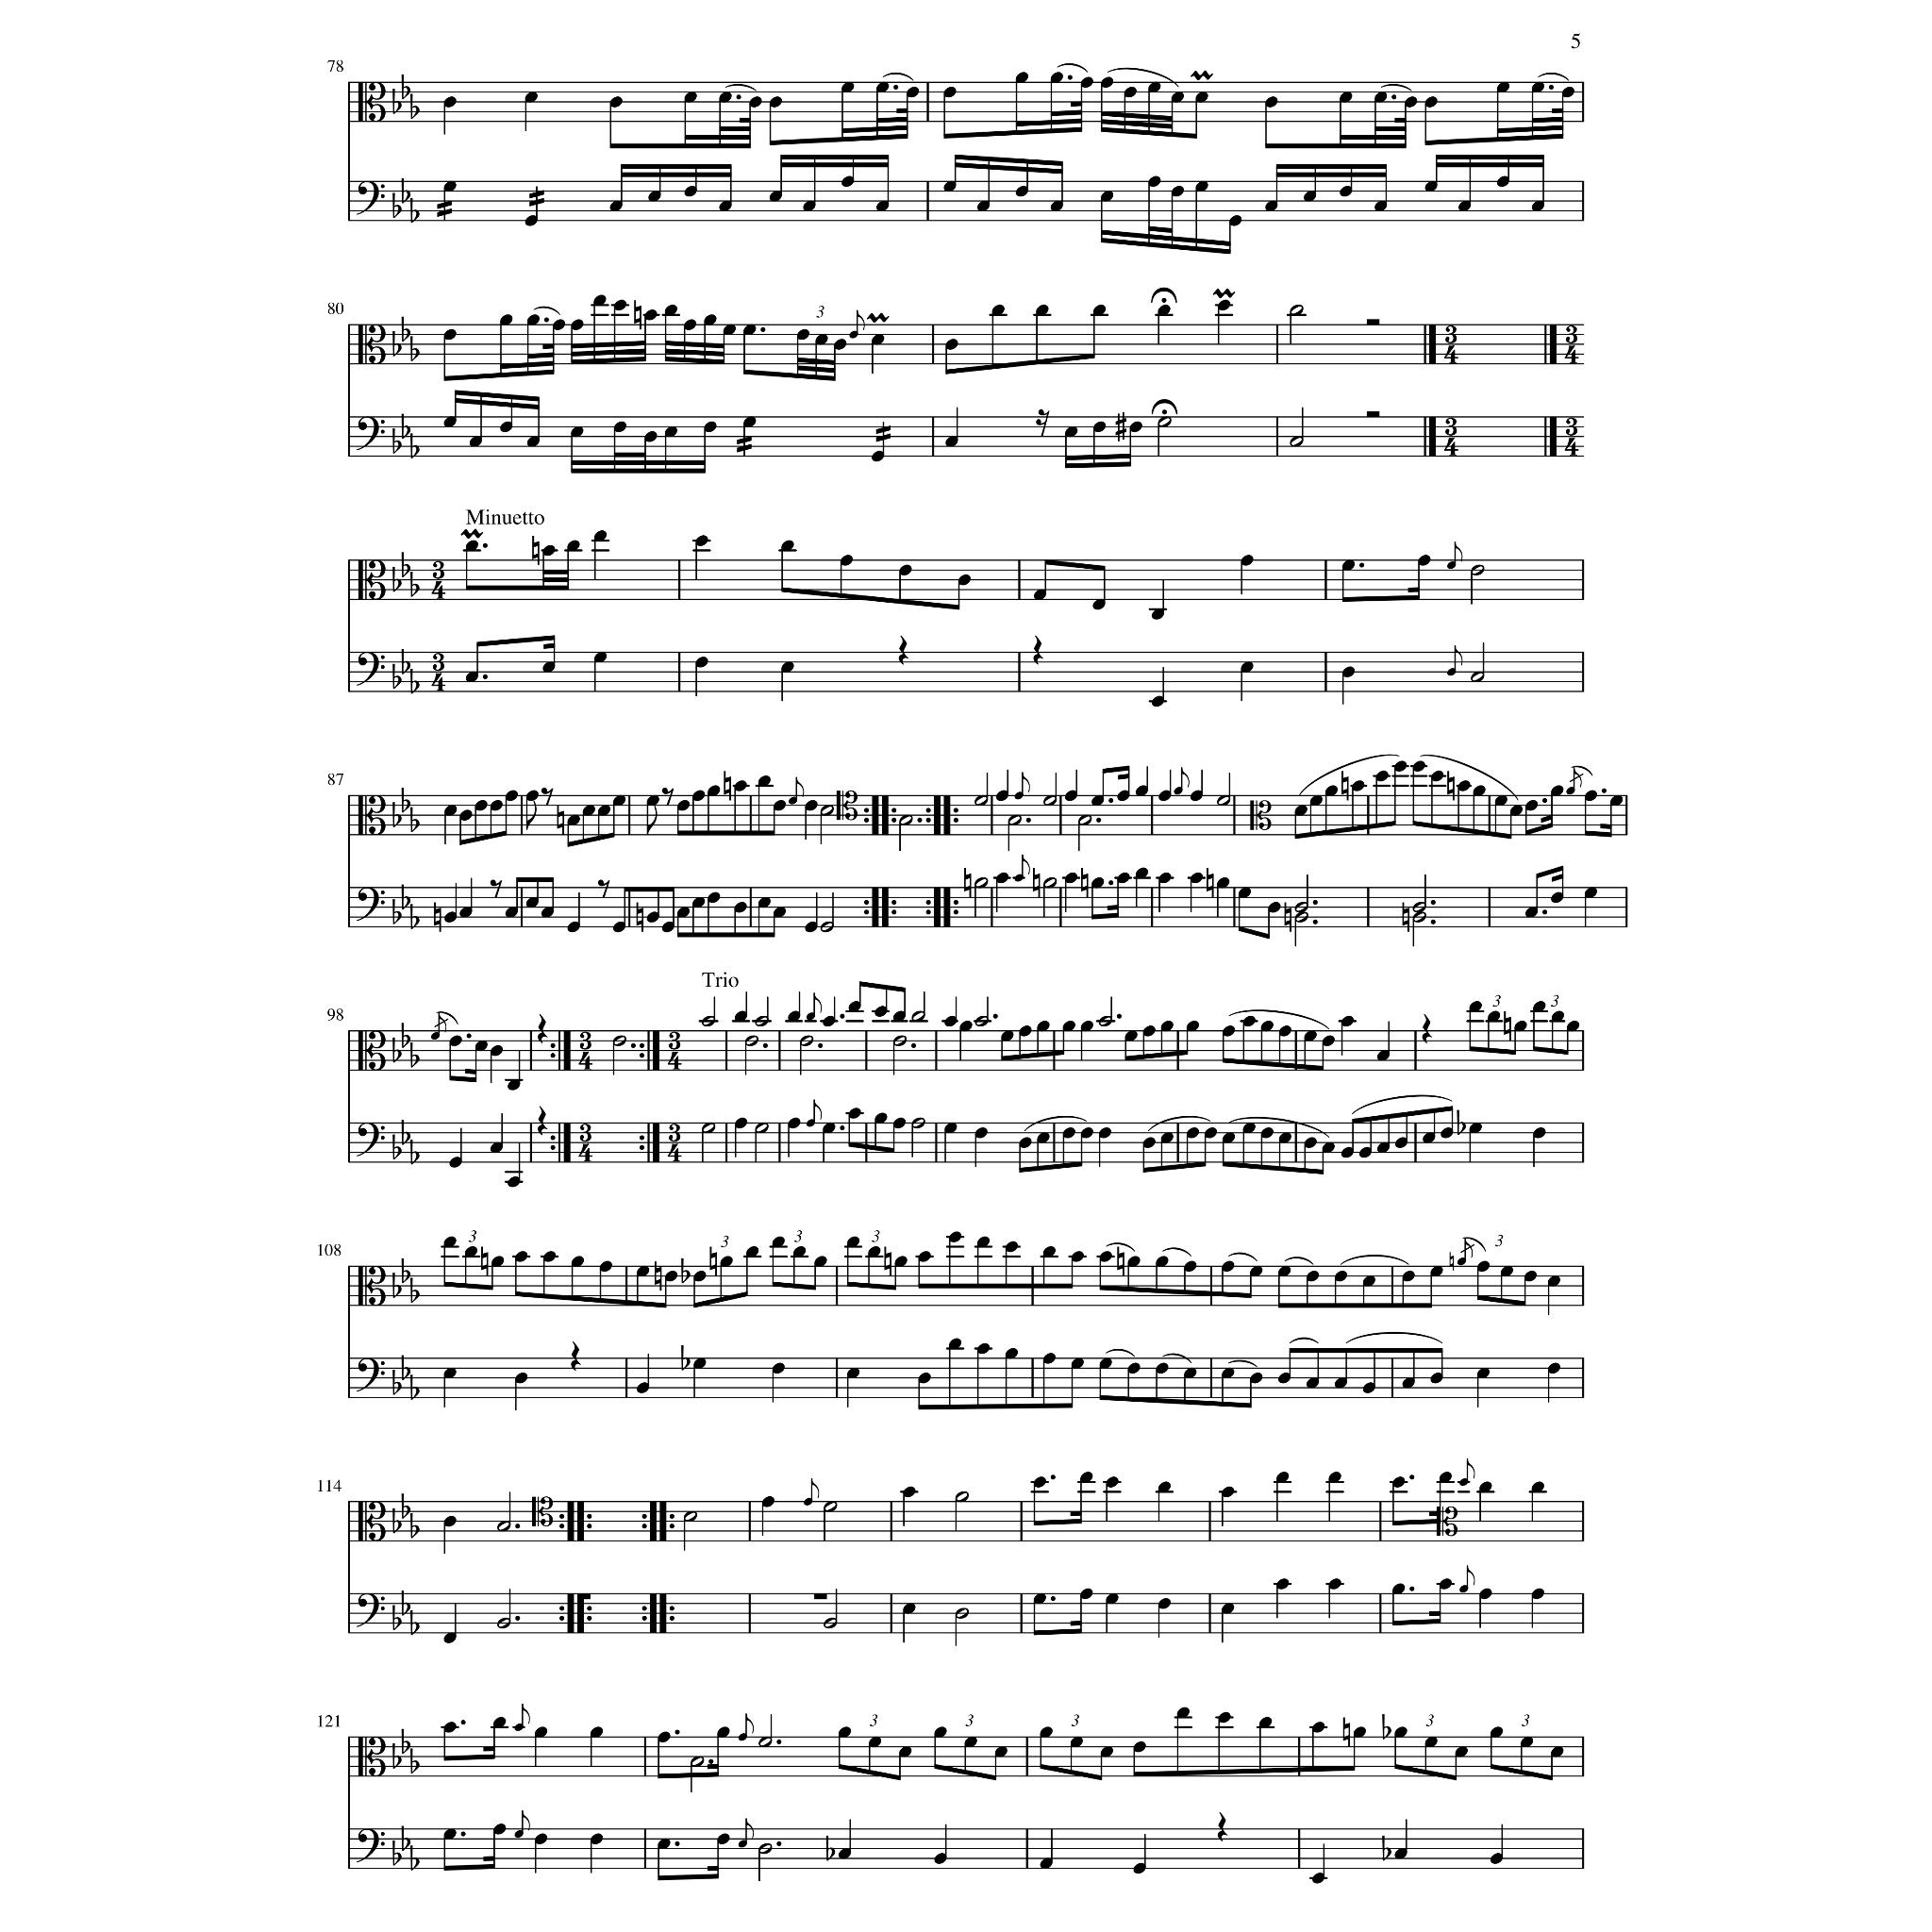fClef: (356, 180, 384, 216), (356, 416, 384, 451), (356, 651, 384, 686), (356, 1122, 384, 1157), (356, 1357, 384, 1392), (356, 888, 384, 922), (356, 1594, 384, 1628), (356, 1829, 384, 1863)
flag8thDown: (525, 801, 536, 830), (648, 807, 656, 835)
flag8thUp: (1460, 1231, 1476, 1258), (1569, 763, 1583, 789), (433, 1007, 448, 1033), (856, 310, 865, 331), (1454, 541, 1463, 563), (1182, 766, 1191, 787), (1023, 771, 1031, 793), (1023, 855, 1031, 876), (796, 777, 805, 798), (1467, 1458, 1476, 1479), (745, 1819, 754, 1840), (745, 1714, 754, 1736), (1454, 646, 1463, 665), (814, 994, 823, 1014), (814, 1100, 823, 1120), (1467, 1566, 1476, 1585), (810, 1479, 819, 1499), (522, 1810, 529, 1831), (522, 1704, 529, 1725)
noteheadBlack: (1339, 186, 1353, 198), (1123, 87, 1138, 99), (1560, 87, 1575, 99), (1424, 180, 1438, 193), (1424, 96, 1438, 108), (1497, 81, 1511, 94), (748, 96, 763, 108), (442, 180, 456, 193), (442, 96, 456, 108), (609, 96, 623, 108), (943, 180, 957, 193), (943, 87, 957, 99), (1035, 304, 1049, 317), (991, 304, 1005, 317), (1129, 421, 1143, 433), (945, 435, 959, 448), (945, 338, 959, 350), (1157, 304, 1171, 317), (593, 295, 607, 308), (683, 318, 697, 331), (722, 324, 736, 336), (663, 304, 678, 317), (1341, 667, 1355, 679), (593, 651, 607, 663), (899, 564, 913, 577), (694, 656, 708, 669), (1189, 872, 1203, 885), (1063, 872, 1077, 885), (1116, 872, 1131, 885), (1525, 800, 1539, 812), (1525, 906, 1539, 918), (1610, 794, 1624, 807), (1309, 794, 1323, 807), (612, 794, 626, 807), (612, 922, 626, 934), (646, 794, 660, 807), (458, 906, 472, 918), (458, 809, 472, 821), (676, 800, 690, 812), (676, 906, 690, 918), (504, 906, 518, 918), (706, 892, 720, 904), (566, 922, 580, 934), (474, 800, 488, 812), (757, 775, 771, 787), (1203, 1127, 1217, 1139), (1185, 1021, 1200, 1033), (1185, 1127, 1200, 1139), (1260, 1021, 1274, 1033), (1260, 1127, 1274, 1139), (1242, 1016, 1256, 1028), (1062, 1127, 1076, 1139), (1062, 1021, 1076, 1033), (1532, 1127, 1546, 1139), (1440, 1127, 1454, 1139), (1341, 1016, 1355, 1028), (1341, 1146, 1355, 1159), (787, 1118, 801, 1131), (448, 1035, 462, 1047), (474, 1040, 488, 1053), (506, 1079, 520, 1092), (506, 1177, 520, 1189), (892, 1118, 906, 1131), (959, 1021, 973, 1033), (874, 1005, 888, 1017), (1221, 1368, 1235, 1380), (1221, 1260, 1235, 1272), (1099, 1251, 1113, 1263), (1099, 1357, 1113, 1369), (1127, 1362, 1141, 1375), (1070, 1251, 1085, 1263), (1070, 1357, 1085, 1369), (1184, 1260, 1198, 1272), (1184, 1368, 1198, 1380), (1155, 1362, 1169, 1375), (1523, 1270, 1537, 1283), (1546, 1362, 1560, 1375), (1401, 1270, 1415, 1283), (1401, 1376, 1415, 1389), (1476, 1260, 1490, 1272), (1476, 1368, 1490, 1380), (663, 1270, 678, 1283), (635, 1382, 649, 1394), (745, 1246, 759, 1258), (771, 1235, 786, 1247), (771, 1362, 786, 1375), (442, 1235, 456, 1247), (442, 1368, 456, 1380), (464, 1246, 478, 1258), (1042, 1246, 1056, 1258), (846, 1235, 860, 1247), (846, 1368, 860, 1380), (1221, 1486, 1235, 1499), (1221, 1603, 1235, 1615), (1157, 1598, 1171, 1610), (1157, 1481, 1171, 1493), (1479, 1587, 1493, 1599), (1479, 1481, 1493, 1493), (442, 1516, 456, 1529), (442, 1631, 456, 1644), (902, 1603, 916, 1615), (902, 1486, 916, 1499), (1217, 1711, 1231, 1723), (1132, 1741, 1146, 1753), (1424, 1736, 1438, 1748), (589, 1833, 603, 1845), (656, 1838, 671, 1851), (656, 1730, 671, 1743), (442, 1828, 456, 1840), (492, 1822, 506, 1835), (492, 1716, 506, 1729), (717, 1833, 731, 1845), (1196, 180, 1208, 193), (1265, 96, 1277, 108), (1171, 186, 1184, 198), (1148, 81, 1161, 94), (1532, 81, 1545, 94), (1405, 96, 1417, 108), (685, 186, 697, 198), (770, 96, 782, 108), (1016, 186, 1028, 198), (876, 81, 888, 94), (842, 81, 855, 94), (906, 87, 918, 99), (833, 338, 846, 350), (1093, 421, 1106, 433), (1093, 304, 1106, 317), (571, 318, 584, 331), (552, 318, 564, 331), (527, 435, 540, 448), (501, 421, 513, 433), (614, 421, 626, 433), (469, 435, 481, 448), (704, 421, 717, 433), (743, 324, 755, 336), (543, 545, 556, 557), (1238, 886, 1251, 899), (1159, 872, 1171, 885), (1092, 794, 1104, 807), (1552, 892, 1564, 904), (1585, 886, 1598, 899), (1495, 794, 1507, 807), (662, 922, 674, 934), (490, 800, 502, 812), (541, 906, 554, 918), (996, 872, 1008, 885), (805, 800, 817, 812), (805, 922, 817, 934), (773, 800, 786, 812), (773, 906, 786, 918), (1037, 1021, 1049, 1033), (1125, 1030, 1138, 1042), (1161, 1021, 1173, 1033), (1081, 1021, 1093, 1033), (1081, 1127, 1093, 1139), (1099, 1127, 1111, 1139), (1514, 1021, 1527, 1033), (1568, 1021, 1580, 1033), (1322, 1035, 1334, 1047), (1322, 1141, 1334, 1154), (1304, 1030, 1316, 1042), (1359, 1146, 1371, 1159), (1376, 1049, 1389, 1062), (1376, 1141, 1389, 1154), (734, 1118, 747, 1131), (490, 1141, 502, 1154), (945, 1016, 957, 1028), (1001, 1030, 1014, 1042), (823, 1016, 835, 1028), (975, 1127, 987, 1139), (1306, 1270, 1318, 1283), (1306, 1376, 1318, 1389), (1334, 1270, 1346, 1283), (1334, 1376, 1346, 1389), (1362, 1382, 1375, 1394), (600, 1260, 612, 1272), (694, 1270, 706, 1283), (694, 1357, 706, 1369), (543, 1251, 556, 1263), (515, 1251, 527, 1263), (977, 1235, 989, 1247), (977, 1343, 989, 1355), (918, 1251, 931, 1263), (1005, 1348, 1017, 1361), (793, 1246, 805, 1258), (869, 1246, 881, 1258), (1392, 1476, 1405, 1488), (1106, 1476, 1118, 1488), (1081, 1587, 1093, 1599), (1532, 1587, 1545, 1599), (1532, 1481, 1545, 1493), (1033, 1476, 1046, 1488), (1260, 1716, 1272, 1729), (964, 1736, 977, 1748), (1313, 1872, 1325, 1884), (1040, 1858, 1053, 1870), (1070, 1736, 1083, 1748), (1522, 1736, 1534, 1748), (1490, 1852, 1502, 1865), (534, 1833, 547, 1845), (934, 1852, 947, 1865), (869, 1736, 881, 1748), (1228, 216, 1242, 226), (1339, 92, 1353, 103), (1497, 177, 1511, 188), (1458, 202, 1472, 212), (718, 202, 732, 212), (718, 92, 732, 103), (609, 202, 623, 212), (524, 216, 538, 226), (524, 92, 538, 103), (1049, 202, 1063, 212), (1049, 73, 1063, 83), (870, 451, 885, 462), (870, 334, 885, 345), (1217, 301, 1231, 311), (442, 418, 456, 428), (442, 329, 456, 340), (663, 426, 678, 437), (1240, 556, 1254, 566), (1152, 609, 1166, 619), (1152, 697, 1166, 708), (1240, 662, 1254, 672), (1341, 561, 1355, 571), (1092, 600, 1106, 610), (1417, 556, 1431, 566), (957, 575, 971, 586), (593, 531, 607, 541), (694, 536, 708, 547), (1189, 791, 1203, 801), (1063, 791, 1077, 801), (1134, 786, 1148, 796), (1134, 869, 1148, 879), (1116, 791, 1131, 801), (1509, 805, 1523, 816), (1375, 771, 1389, 782), (1394, 761, 1408, 771), (1352, 780, 1366, 791), (1472, 786, 1486, 796), (1412, 761, 1426, 771), (646, 913, 660, 924), (706, 786, 720, 796), (504, 791, 518, 801), (566, 816, 580, 826), (757, 897, 771, 908), (1277, 1026, 1292, 1037), (1277, 1132, 1292, 1143), (1242, 1123, 1256, 1134), (1532, 1001, 1546, 1012), (1468, 1001, 1483, 1012), (1468, 1123, 1483, 1134), (1422, 1132, 1437, 1143), (1394, 1138, 1408, 1148), (787, 1012, 801, 1023), (448, 1157, 462, 1168), (892, 1012, 906, 1023), (874, 1113, 888, 1123), (847, 1001, 862, 1012), (847, 1108, 862, 1118), (1249, 1267, 1263, 1277), (1249, 1373, 1263, 1384), (1277, 1267, 1292, 1277), (1277, 1373, 1292, 1384), (1127, 1256, 1141, 1267), (1155, 1256, 1169, 1267), (1546, 1276, 1560, 1286), (1430, 1267, 1444, 1277), (1430, 1373, 1444, 1384), (635, 1267, 649, 1277), (490, 1256, 504, 1267), (893, 1256, 908, 1267), (1042, 1353, 1056, 1364), (814, 1256, 828, 1267), (1438, 1578, 1453, 1589), (1438, 1472, 1453, 1483), (761, 1497, 775, 1507), (1132, 1863, 1146, 1874), (1394, 1849, 1408, 1859), (1394, 1727, 1408, 1737), (1454, 1746, 1468, 1757), (589, 1727, 603, 1737), (442, 1721, 456, 1732), (837, 1849, 851, 1859), (837, 1727, 851, 1737), (899, 1746, 913, 1757), (717, 1727, 731, 1737), (1196, 92, 1208, 103), (1304, 191, 1316, 202), (1265, 202, 1277, 212), (1100, 191, 1113, 202), (1100, 78, 1113, 88), (1081, 78, 1093, 88), (1171, 92, 1184, 103), (1148, 177, 1161, 188), (1532, 202, 1545, 212), (1375, 202, 1387, 212), (1375, 92, 1387, 103), (685, 92, 697, 103), (648, 191, 660, 202), (770, 191, 782, 202), (1016, 73, 1028, 83), (977, 202, 989, 212), (842, 177, 855, 188), (876, 202, 888, 212), (803, 202, 816, 212), (1065, 426, 1077, 437), (571, 426, 584, 437), (527, 315, 540, 326), (614, 301, 626, 311), (501, 315, 513, 326), (704, 315, 717, 326), (796, 329, 809, 340), (743, 418, 755, 428), (816, 334, 828, 345), (644, 432, 656, 442), (644, 310, 656, 320), (1033, 589, 1046, 600), (543, 662, 556, 672), (566, 541, 579, 552), (465, 672, 478, 683), (465, 541, 478, 552), (780, 541, 793, 552), (780, 662, 793, 672), (840, 556, 853, 566), (1217, 878, 1230, 888), (1295, 805, 1307, 816), (1269, 902, 1281, 913), (1159, 791, 1171, 801), (1092, 878, 1104, 888), (1552, 786, 1564, 796), (1585, 791, 1598, 801), (1325, 786, 1338, 796), (1458, 780, 1470, 791), (1431, 771, 1444, 782), (692, 791, 704, 801), (692, 897, 704, 908), (525, 791, 538, 801), (525, 897, 538, 908), (582, 805, 594, 816), (598, 805, 610, 816), (996, 791, 1008, 801), (444, 913, 456, 924), (734, 780, 747, 791), (734, 902, 747, 913), (444, 805, 456, 816), (1019, 1138, 1031, 1148), (1223, 1026, 1235, 1037), (1223, 1132, 1235, 1143), (1037, 1132, 1049, 1143), (1143, 1026, 1155, 1037), (1143, 1138, 1155, 1148), (1161, 1132, 1173, 1143), (1552, 1012, 1564, 1023), (1488, 1012, 1500, 1023), (1304, 1138, 1316, 1148), (734, 1012, 747, 1023), (1019, 1026, 1031, 1037), (490, 1046, 502, 1056), (945, 1123, 957, 1134), (823, 1123, 835, 1134), (1500, 1267, 1513, 1277), (1362, 1276, 1375, 1286), (720, 1256, 732, 1267), (571, 1256, 584, 1267), (515, 1373, 527, 1384), (948, 1231, 961, 1242), (948, 1339, 961, 1350), (918, 1373, 931, 1384), (1005, 1242, 1017, 1253), (1392, 1583, 1405, 1594), (1329, 1578, 1341, 1589), (1329, 1472, 1341, 1483), (1276, 1578, 1288, 1589), (1276, 1472, 1288, 1483), (1106, 1594, 1118, 1605), (1081, 1472, 1093, 1483), (1033, 1594, 1046, 1605), (1177, 1707, 1189, 1718), (1313, 1721, 1325, 1732), (1040, 1727, 1053, 1737), (994, 1746, 1007, 1757), (1100, 1746, 1113, 1757), (1552, 1746, 1564, 1757), (1353, 1727, 1366, 1737), (1490, 1727, 1502, 1737), (534, 1727, 547, 1737), (934, 1727, 947, 1737), (1014, 874, 1024, 883), (1173, 787, 1184, 796), (787, 796, 798, 805), (805, 1012, 816, 1021), (1456, 1256, 1467, 1265), (803, 1497, 814, 1506), (849, 331, 858, 340), (1447, 561, 1456, 570), (1447, 669, 1456, 678), (1566, 787, 1575, 796), (430, 1031, 439, 1040), (1460, 1477, 1468, 1486), (515, 1829, 524, 1838), (515, 1723, 524, 1732), (738, 1840, 747, 1849), (738, 1732, 747, 1741), (1014, 793, 1024, 800), (805, 1120, 816, 1127), (1460, 1585, 1468, 1592)
noteheadHalf: (1290, 435, 1304, 448), (1290, 304, 1304, 317), (1470, 564, 1484, 577), (1217, 794, 1231, 807), (1042, 794, 1056, 807), (975, 794, 989, 807), (819, 922, 833, 934), (1099, 1016, 1113, 1028), (701, 1016, 715, 1028), (754, 1016, 768, 1028), (743, 1035, 757, 1047), (612, 1035, 626, 1047), (893, 1035, 908, 1047), (911, 1118, 925, 1131), (800, 1035, 814, 1047), (975, 1016, 989, 1028), (683, 1511, 697, 1523), (497, 1617, 511, 1629), (823, 1617, 837, 1629), (823, 1500, 837, 1513), (690, 1755, 704, 1767), (1157, 418, 1171, 428), (1470, 672, 1484, 683), (1295, 913, 1309, 924), (1295, 902, 1309, 913), (1077, 816, 1092, 826), (1042, 878, 1056, 888), (1412, 902, 1426, 913), (1412, 913, 1426, 924), (975, 878, 989, 888), (899, 816, 913, 826), (1008, 816, 1023, 826), (819, 805, 833, 816), (701, 1123, 715, 1134), (754, 1123, 768, 1134), (911, 1012, 925, 1023), (497, 1522, 511, 1532), (955, 1608, 970, 1619), (955, 1491, 970, 1502), (757, 1844, 771, 1854), (757, 1737, 771, 1748)
rest16th: (1035, 409, 1049, 437)
rest8th: (488, 879, 502, 899), (662, 787, 674, 807), (598, 879, 610, 899), (541, 787, 554, 807)
restHalf: (1366, 410, 1380, 418), (1366, 318, 1380, 326)
restQuarter: (1033, 635, 1044, 665), (899, 635, 909, 665), (1422, 1014, 1433, 1044), (538, 1014, 548, 1044), (538, 1106, 548, 1136), (570, 1341, 580, 1371), (1217, 1812, 1228, 1842)
restWhole: (814, 1594, 828, 1601), (577, 1594, 591, 1601)
